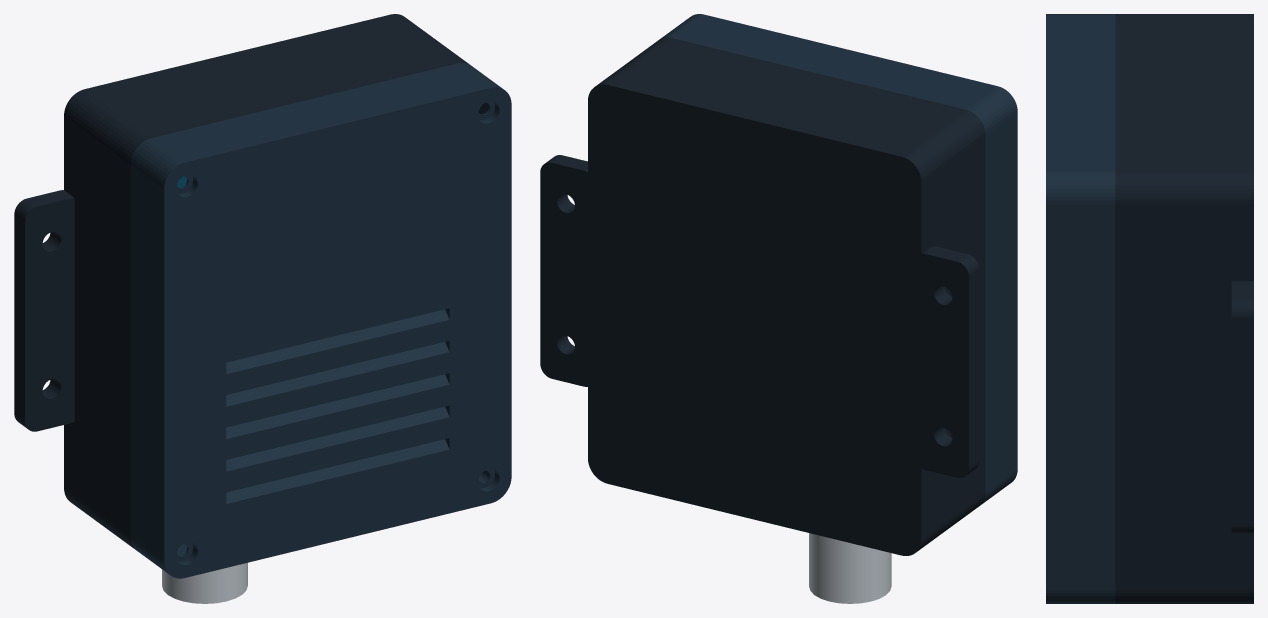
File: senda-estacion-ambiental.glb
3 views of the same model, side by side, from view 1: azimuth 30°, elevation 25°; view 2: azimuth 150°, elevation 25°; view 3: azimuth 270°, elevation 25° (orthographic). The views are drawn at different scales.
Visible parts, largest first — view 1: front_louvers, rear_housing, jsn_sr04t_waterproof_probe; view 2: rear_housing, front_louvers, jsn_sr04t_waterproof_probe; view 3: rear_housing, front_louvers.
Boxes of the visible parts, x1=… form: front_louvers: x1=131, y1=63, x2=511, y2=578; rear_housing: x1=14, y1=14, x2=469, y2=550; jsn_sr04t_waterproof_probe: x1=162, y1=562, x2=247, y2=603; rear_housing: x1=540, y1=37, x2=985, y2=555; front_louvers: x1=659, y1=14, x2=1017, y2=504; jsn_sr04t_waterproof_probe: x1=809, y1=533, x2=891, y2=603; rear_housing: x1=1115, y1=14, x2=1253, y2=603; front_louvers: x1=1046, y1=14, x2=1115, y2=603.
Size of the model in its own units: 0.108 by 0.114 by 0.042.
